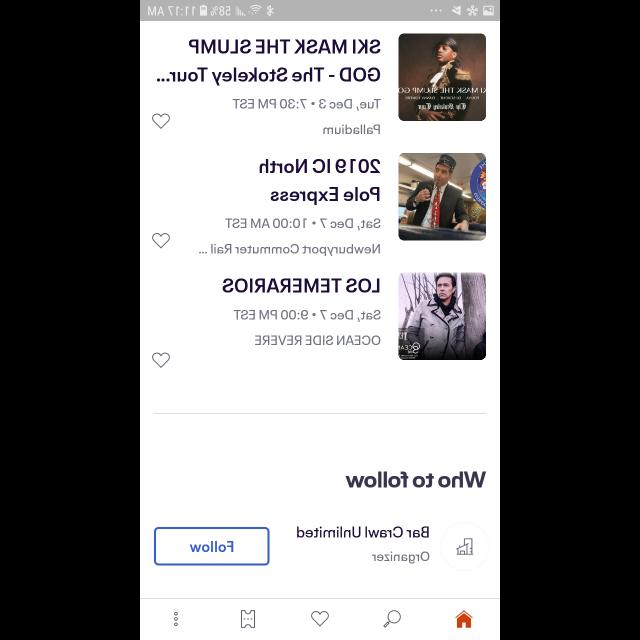icon: (455, 610, 473, 628), (383, 610, 401, 628), (152, 114, 170, 130), (152, 232, 170, 248), (152, 352, 170, 368), (311, 611, 329, 627), (241, 610, 255, 628), (174, 612, 178, 626)
image: (398, 34, 486, 122), (398, 153, 486, 241), (398, 272, 486, 360), (439, 522, 488, 570)
text: (156, 38, 380, 86), (199, 218, 381, 256), (260, 159, 380, 205), (232, 99, 381, 135), (234, 310, 380, 346), (222, 278, 380, 294), (346, 472, 486, 488), (297, 526, 429, 538), (371, 552, 429, 564)
textbutton: (154, 526, 270, 566)
uppertaskbar: (140, 1, 500, 22)
